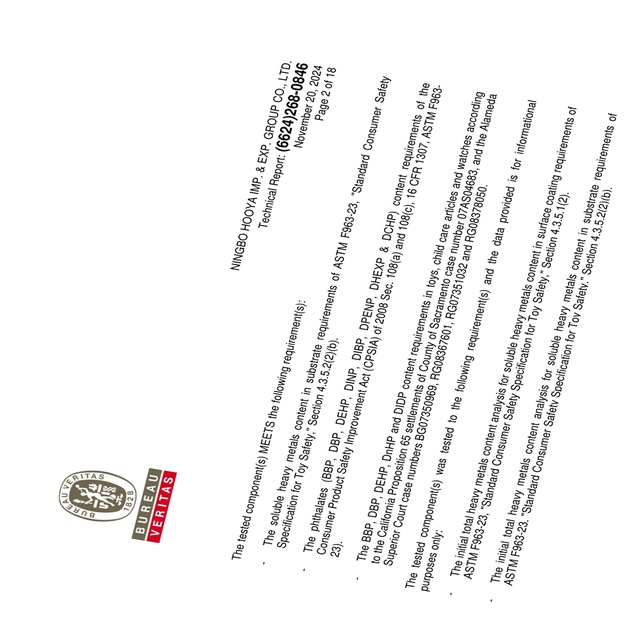bureau_veritas: (56, 461, 177, 552)
